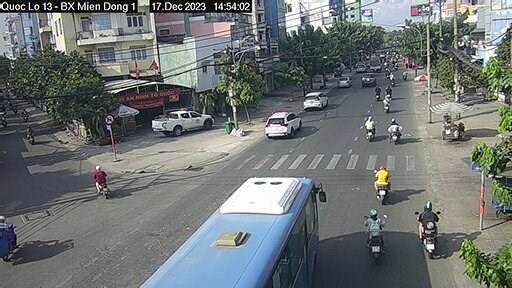bus: (165, 174, 323, 288)
car: (150, 101, 222, 146), (268, 100, 292, 142), (304, 88, 328, 109)
motorbike: (361, 206, 391, 258), (416, 197, 441, 250), (372, 166, 399, 201), (87, 162, 111, 196)
